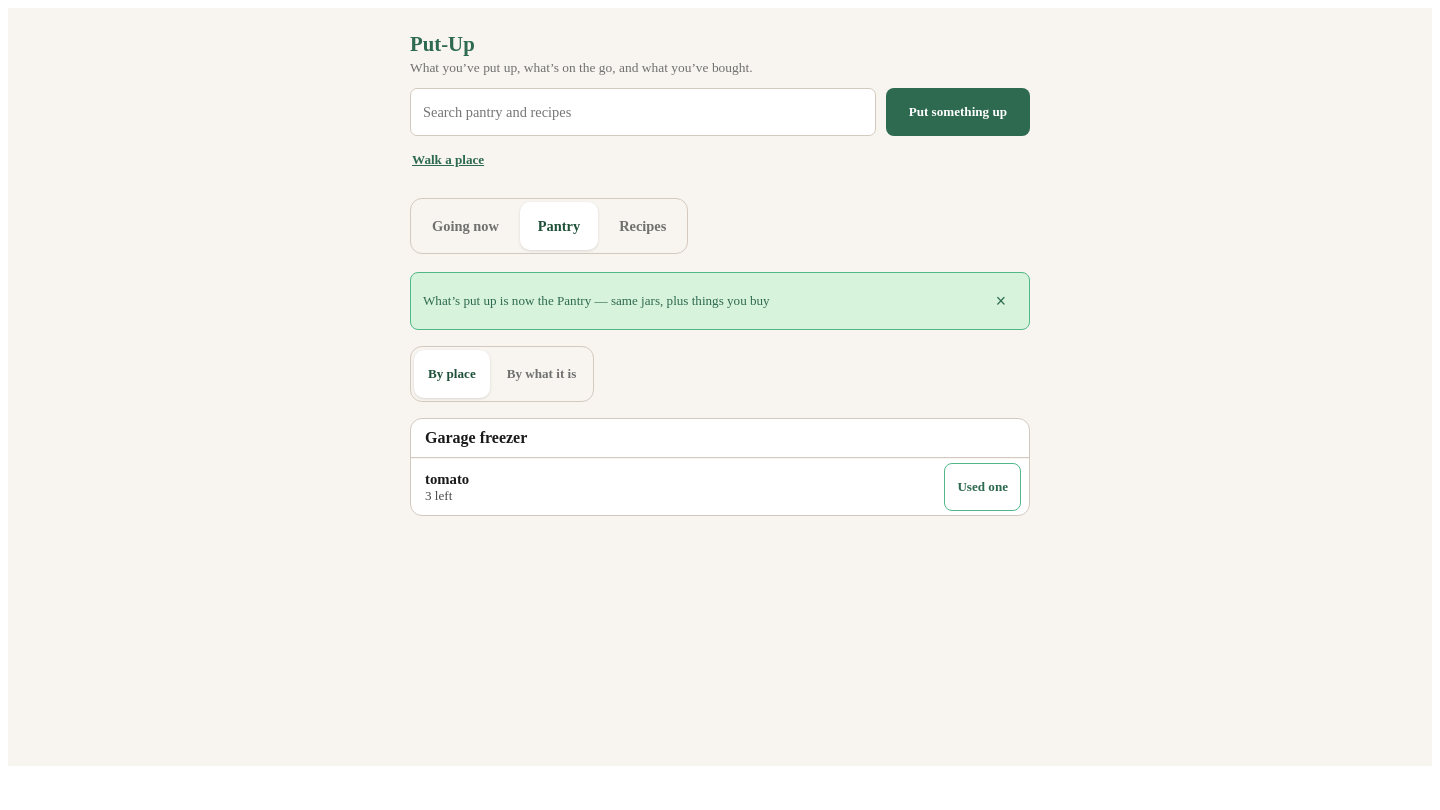
Test: the Pantry row and its sheet — a refused write says why, and the edit stays › only_n_left shows the number the SERVER sent, not the one on the row
Click the button with aria-label "Used one — " at (983, 487), box [944,463,1021,511]
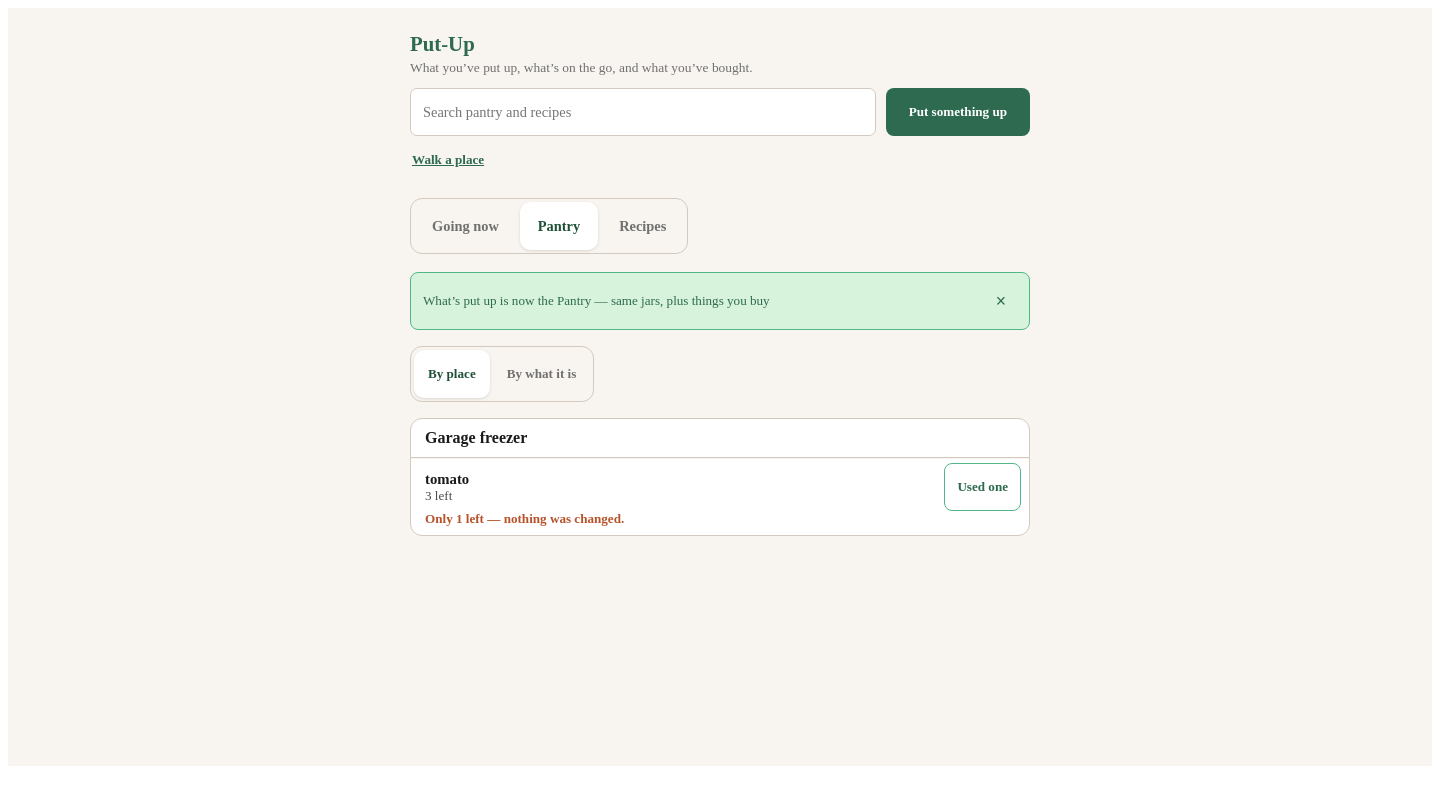
Result: the message reads "Only 1 left — nothing was changed." at [425,511,624,526]
